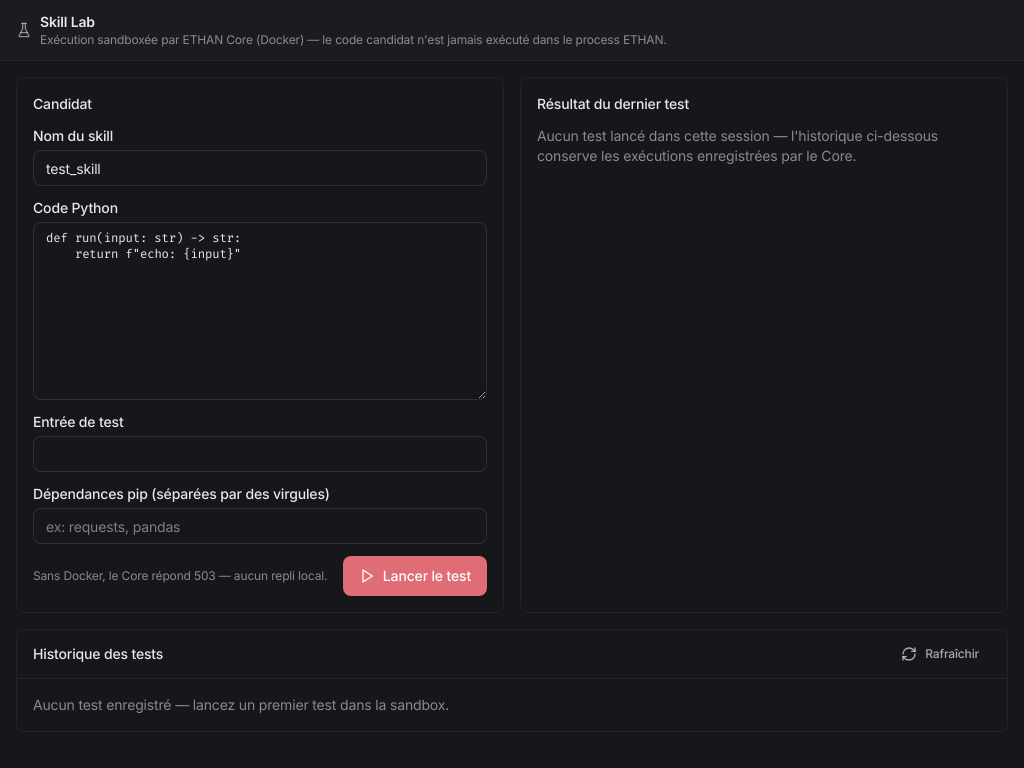
Test case: SkillsLabWorkspace — test sandboxé par le Core › Docker absent (503) : message explicite, aucun repli local
Expected: the text "Aucun test enregistré" is shown, [33, 696, 449, 713]
Click the button "Lancer le test": (415, 576) [343, 556, 487, 596]
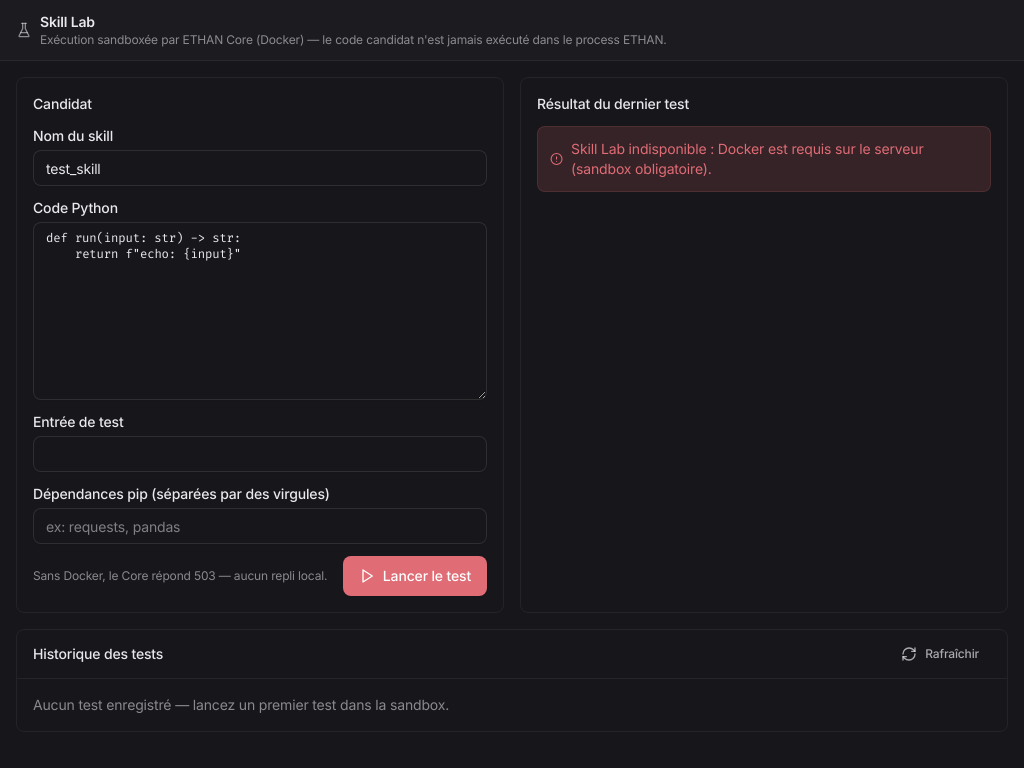
Expected: the text "Skill Lab indisponible : Docker est requis sur le serveur (sandbox obligatoire)." is shown, [550, 139, 978, 179]
